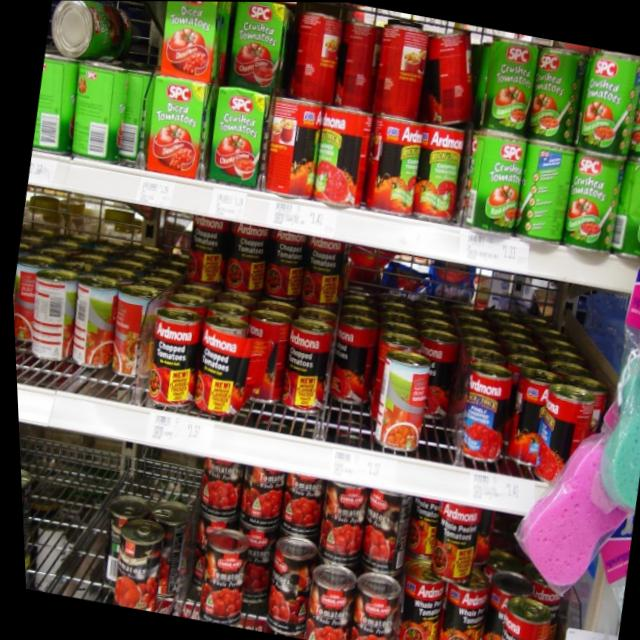q193: (142, 74, 214, 179), (555, 154, 626, 260), (574, 52, 639, 162), (526, 41, 591, 146), (507, 139, 578, 234), (477, 30, 543, 130), (467, 132, 535, 228), (206, 93, 271, 193), (222, 1, 294, 90), (150, 1, 225, 84), (615, 165, 640, 264), (627, 62, 640, 166)
